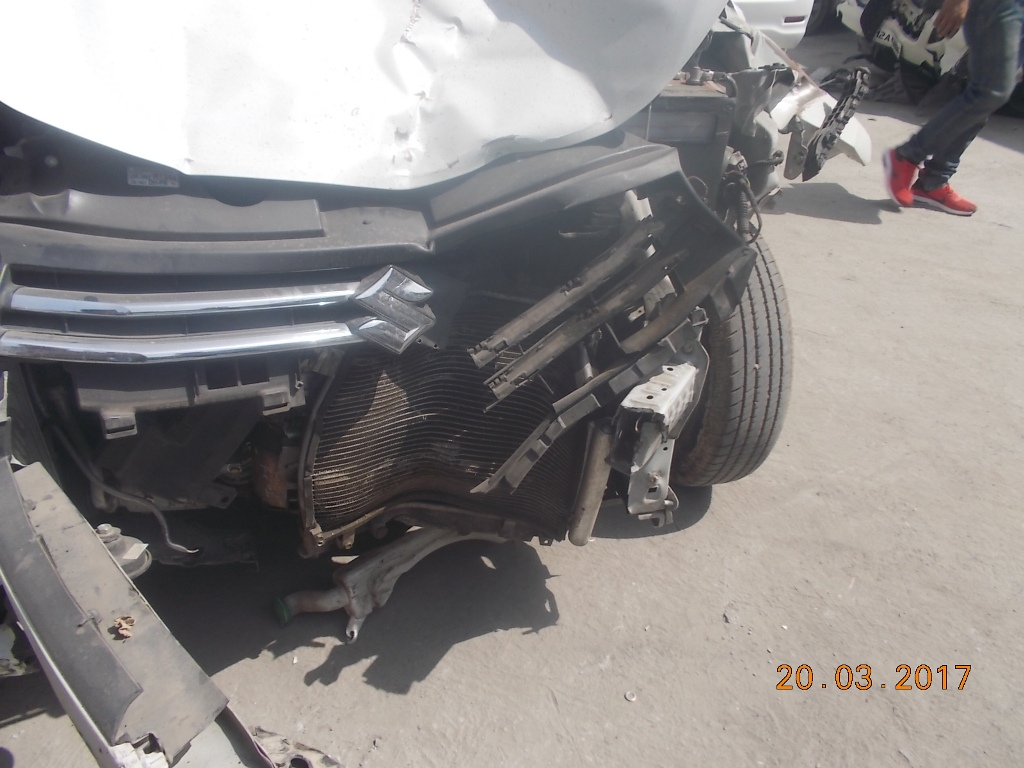Large_tear_or_damage: (17, 43, 825, 655)
